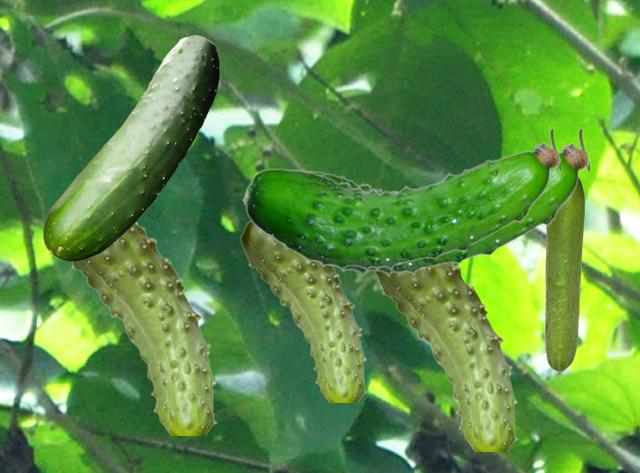cucumber: (241, 127, 559, 271), (302, 127, 588, 276), (43, 35, 218, 260), (70, 222, 216, 434), (374, 264, 517, 450), (240, 220, 366, 401), (544, 178, 584, 371)
